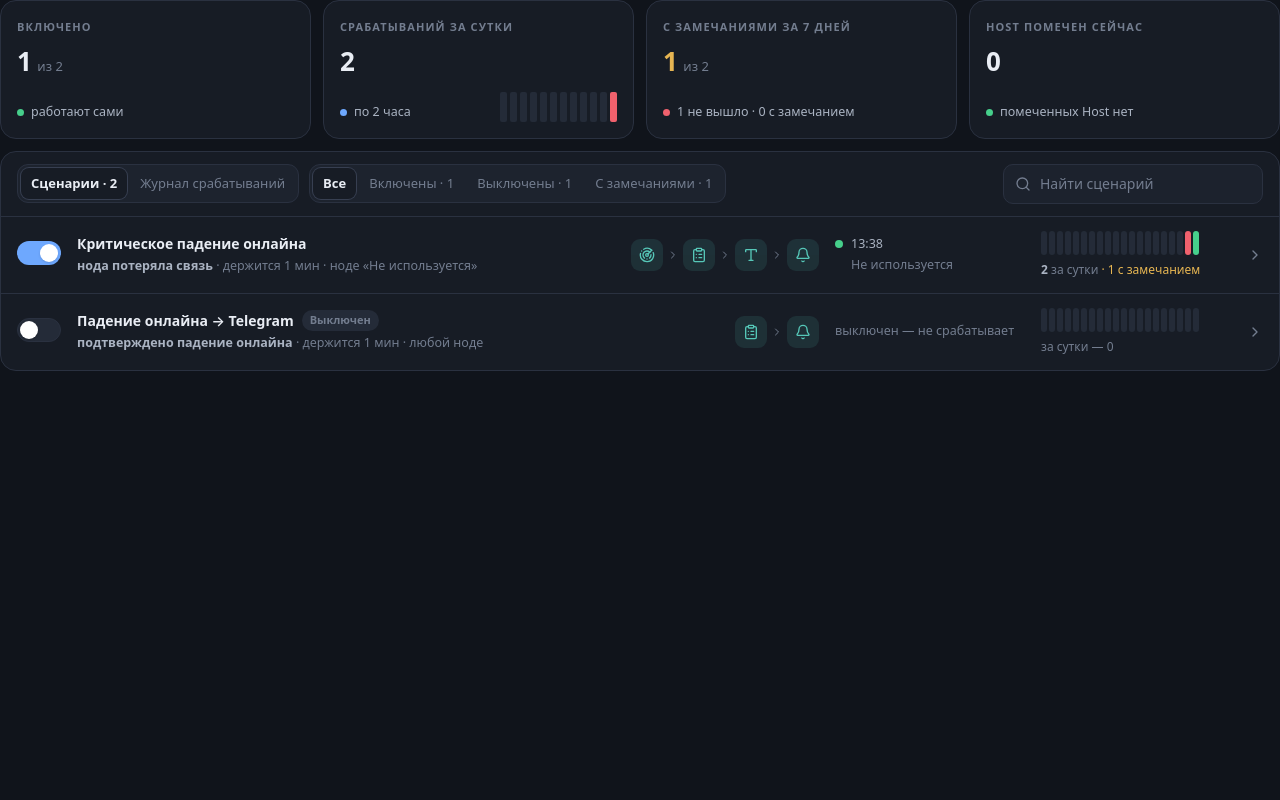
Сценарии: плитки, строки, журнал и окно (витрина scenarios-2026-10b, страница A и окно A) › журнал: по суткам с итогом дня, строка раскрывается до шагов — событие ссылкой, возврат Host внутри
Click the radio button labelled "Журнал срабатываний".
click(213, 184)  # box [130,168,295,199]
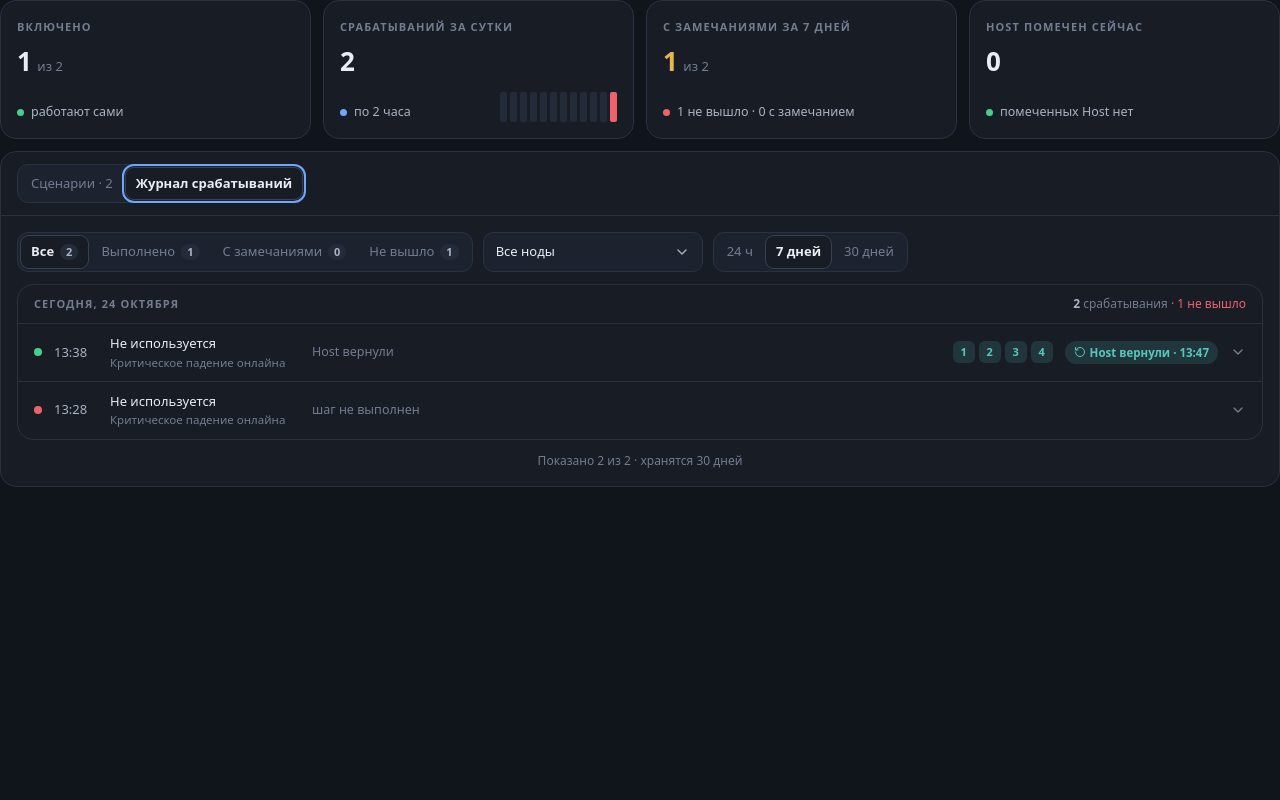
Expected: the 1st button shows "Критическое падение онлайна"
Click the 1st button.
click(71, 352)  # box [18,324,1262,381]
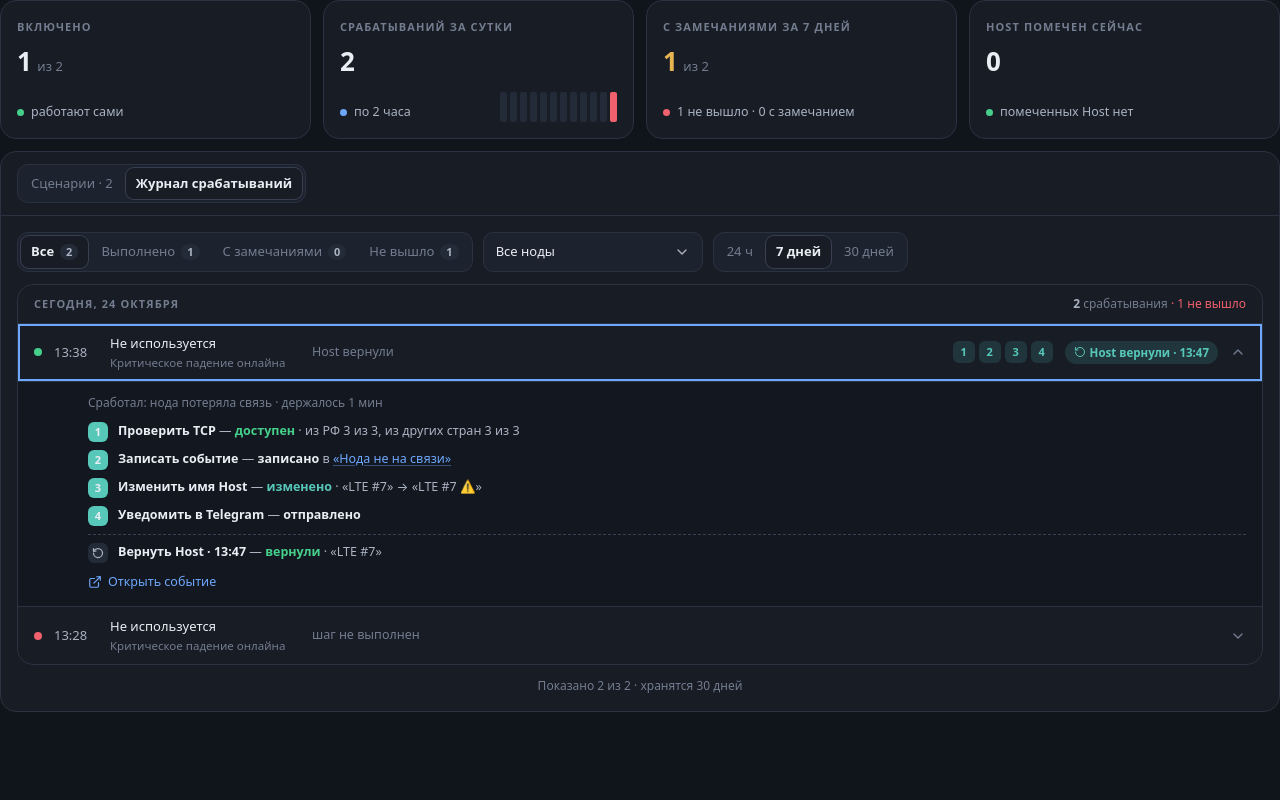
Expected: the 2nd button shows "шаг не выполнен", [18,607,1262,664]
Expected: the element "Сегодня" shows "Проверить TCP — доступен · из РФ 3 из 3, из других стран 3 из 3", [17,284,1263,665]
Expected: the element "Сегодня" shows "Изменить имя Host — изменено · «LTE #7» → «LTE #7 ⚠️»", [17,284,1263,665]
